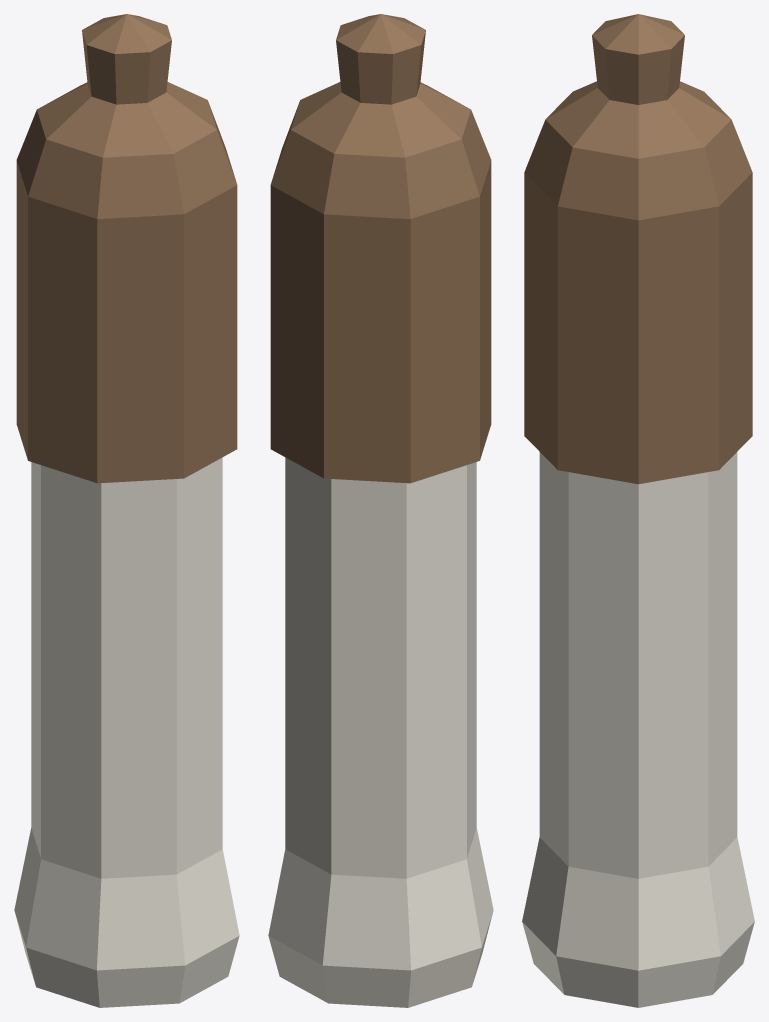
The model's file is prop-needle-case-em1.fbx.
The picture shows the model from 3 angles, left to right: view 1: azimuth 30°, elevation 25°; view 2: azimuth 150°, elevation 25°; view 3: azimuth 270°, elevation 25°; orthographic projection.
Visible parts, largest first — view 1: prop-needle-case-em1; view 2: prop-needle-case-em1; view 3: prop-needle-case-em1.
Part boxes in pixels (box(x1,y1,x2,y2)): prop-needle-case-em1: box(14, 14, 239, 1007); prop-needle-case-em1: box(268, 14, 493, 1007); prop-needle-case-em1: box(522, 14, 754, 1007).
Bounding box in the file's own units: 2 × 9 × 2.
